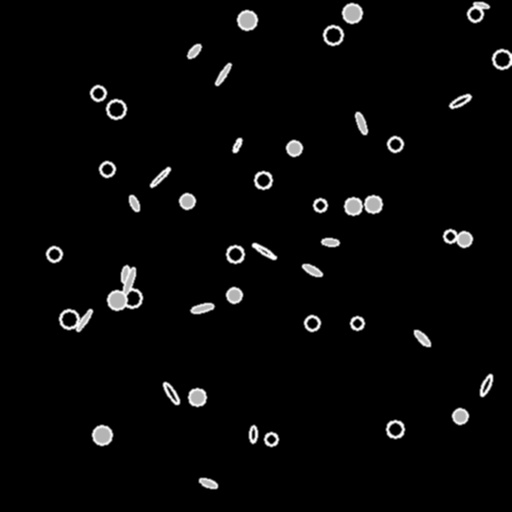pseudomonas: (149, 166, 171, 188), (161, 381, 181, 405), (121, 266, 137, 296), (251, 242, 277, 260), (412, 328, 432, 348), (214, 63, 232, 85), (75, 309, 93, 331), (478, 373, 494, 397), (448, 93, 472, 109), (301, 262, 323, 278), (354, 111, 368, 135), (186, 43, 202, 59), (127, 194, 141, 212), (191, 303, 213, 313), (199, 477, 217, 489), (231, 137, 243, 153), (120, 266, 130, 282), (321, 238, 339, 246), (473, 1, 489, 9), (250, 425, 256, 443)
synechocystis: (107, 100, 125, 118), (93, 426, 111, 444), (324, 26, 342, 44), (123, 289, 141, 307), (493, 50, 511, 68), (343, 4, 361, 22), (108, 291, 126, 309), (60, 310, 78, 328), (238, 11, 256, 29), (387, 421, 403, 437), (255, 172, 271, 188), (365, 196, 381, 212), (189, 389, 205, 405), (227, 246, 243, 262), (345, 198, 361, 214), (457, 232, 471, 246), (180, 194, 194, 208), (47, 247, 61, 261), (100, 162, 114, 176), (453, 409, 467, 423), (468, 7, 482, 21), (91, 86, 105, 100), (287, 141, 301, 155), (305, 316, 319, 330), (227, 288, 241, 302), (388, 137, 402, 151), (351, 317, 363, 329), (314, 199, 326, 211), (444, 230, 456, 242), (265, 433, 277, 445)
